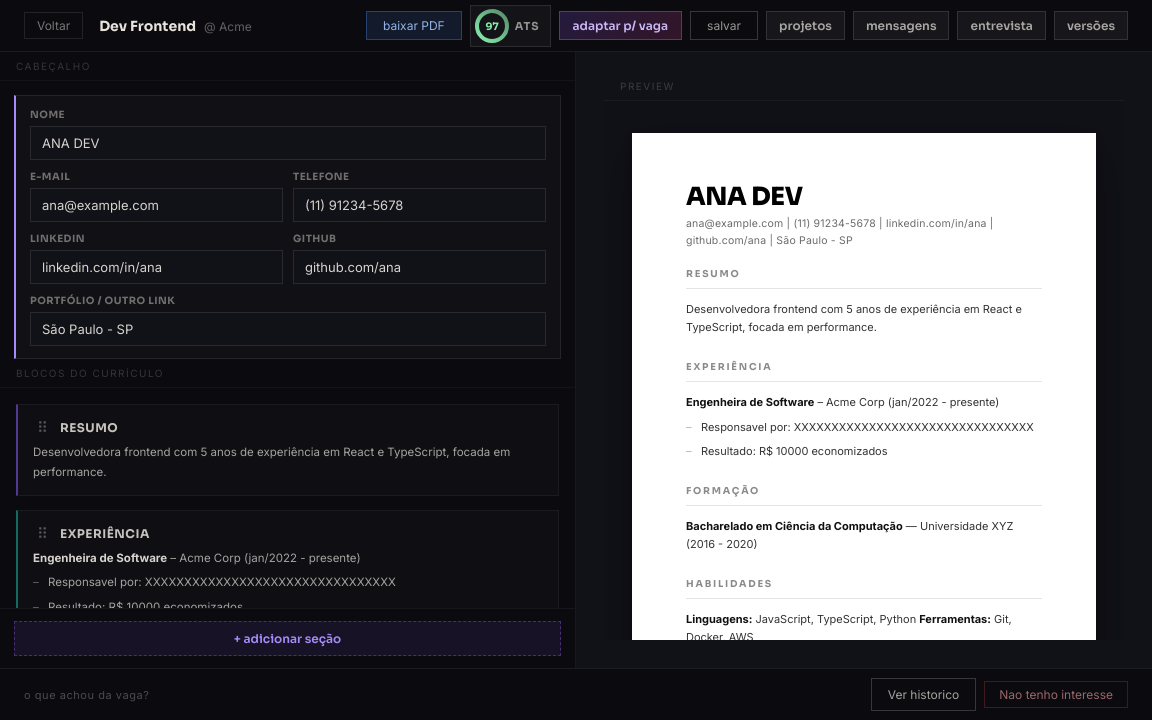
CvEditor — ATS Center › mostra "Adicione um link válido" quando o projeto não tem link http/https, mesmo com o resto do CV completo
Click the button titled "ATS Center" at [510, 26], box [470, 4, 550, 46]
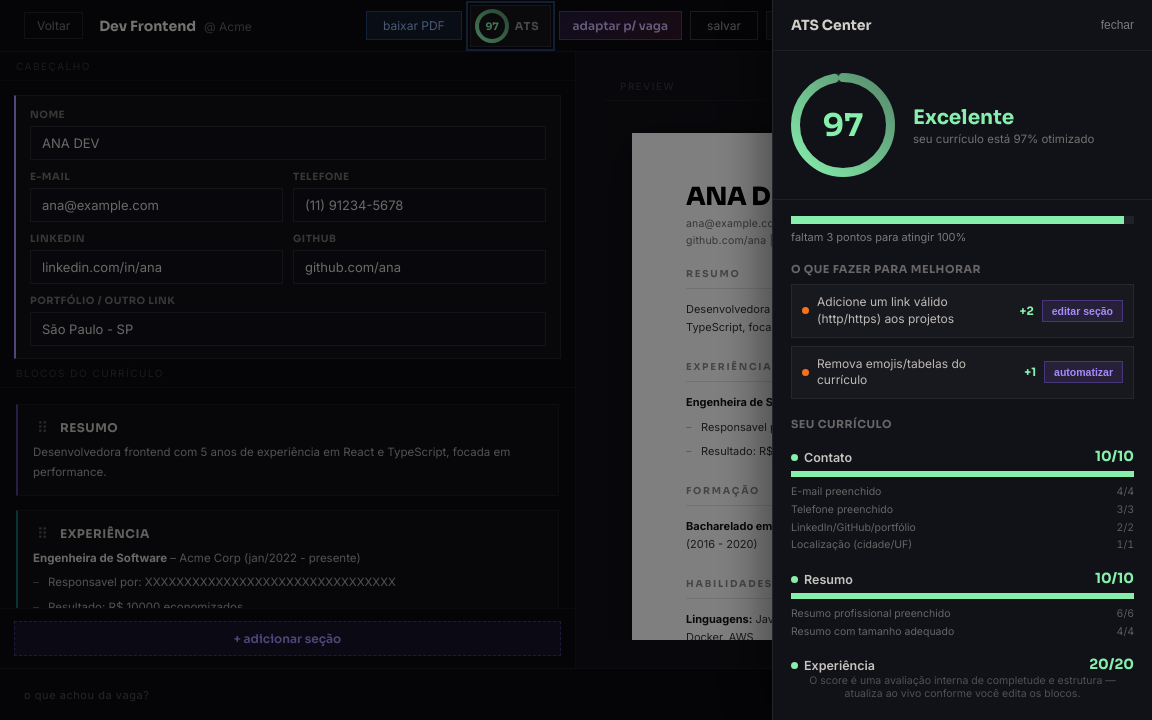
Now the text "Adicione um link válido (http/https) aos projetos" is shown, box [817, 294, 954, 326]
